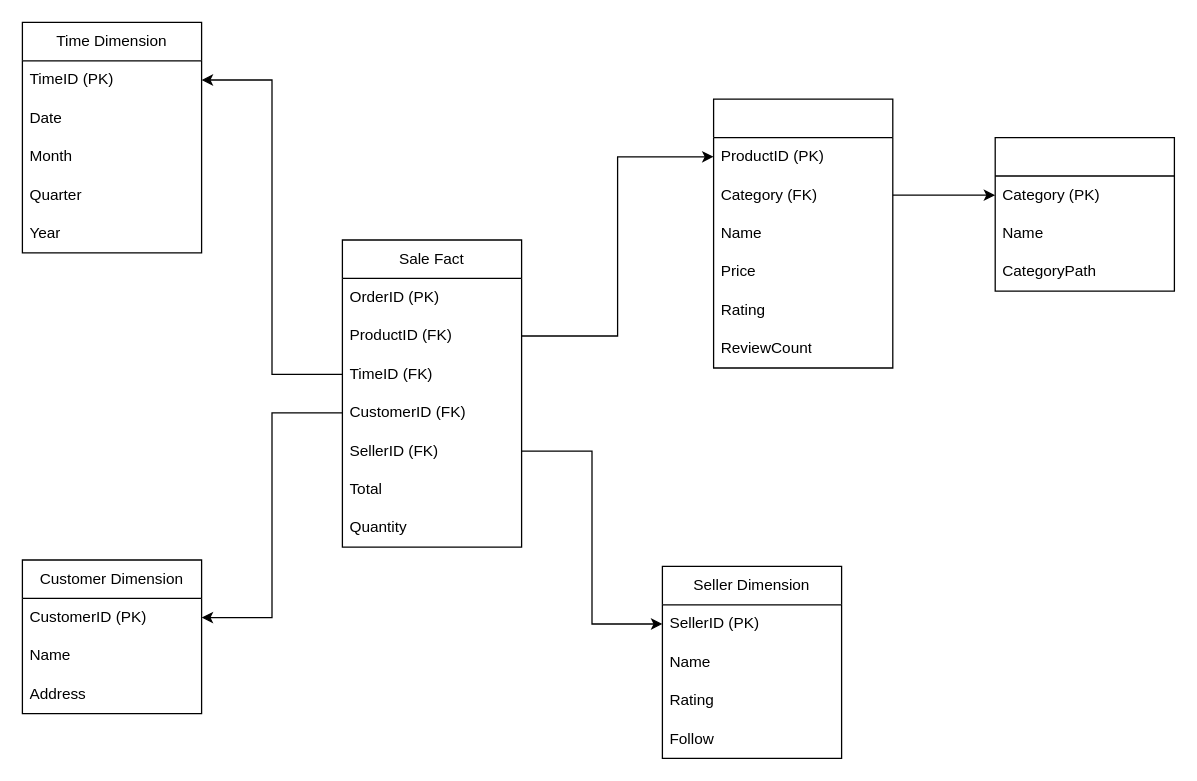
Image size: 1197x781. Some labels were removed from this diagram. The shapes that lost their labels are listed below. From the top down, each one's box as (x1, y1, x2, y2) in pixels, then its label:
(712, 98, 893, 368): Product Dimension
(994, 136, 1174, 291): Category Dimension
